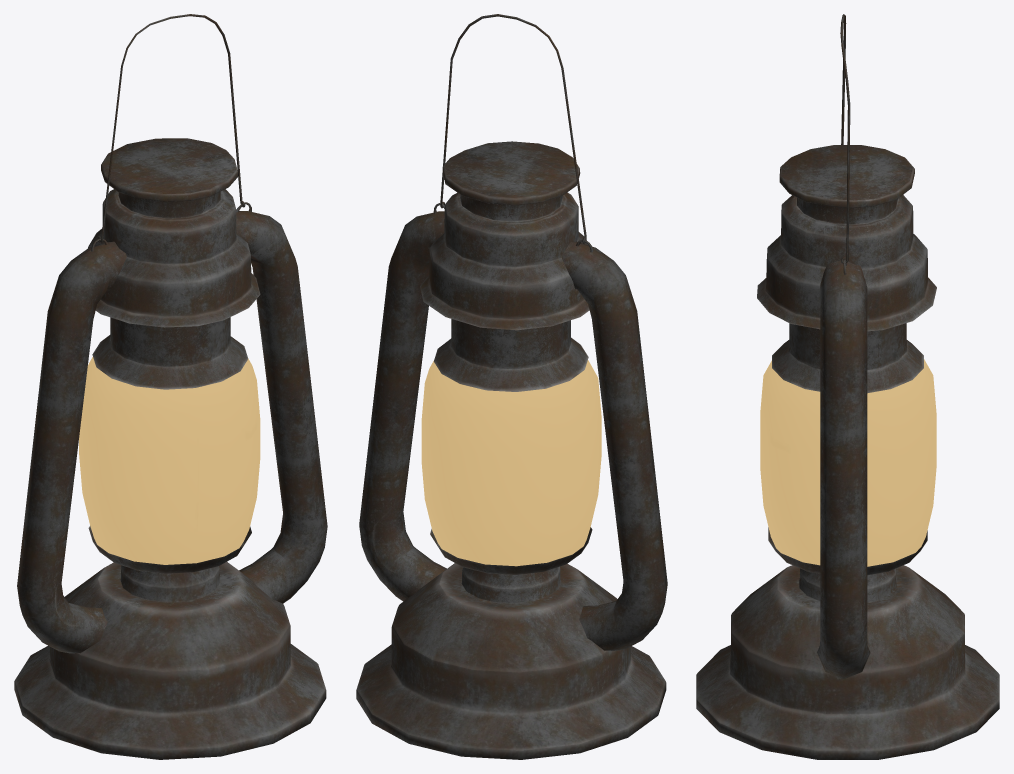
Rendered from old_rusty_lantern.glb.
3 views of the same model, side by side, from view 1: azimuth 30°, elevation 25°; view 2: azimuth 150°, elevation 25°; view 3: azimuth 270°, elevation 25° (orthographic).
Parts seen in each view (by area): view 1: Lantern_0; view 2: Lantern_0; view 3: Lantern_0.
Boxes of the visible parts, x1,y1,x2,y2 form: Lantern_0: [14, 14, 327, 759]; Lantern_0: [356, 14, 667, 759]; Lantern_0: [696, 14, 999, 759].
Bounding box in the file's own units: 2.75 × 5.87 × 2.39.
1 material, 1 textured.
